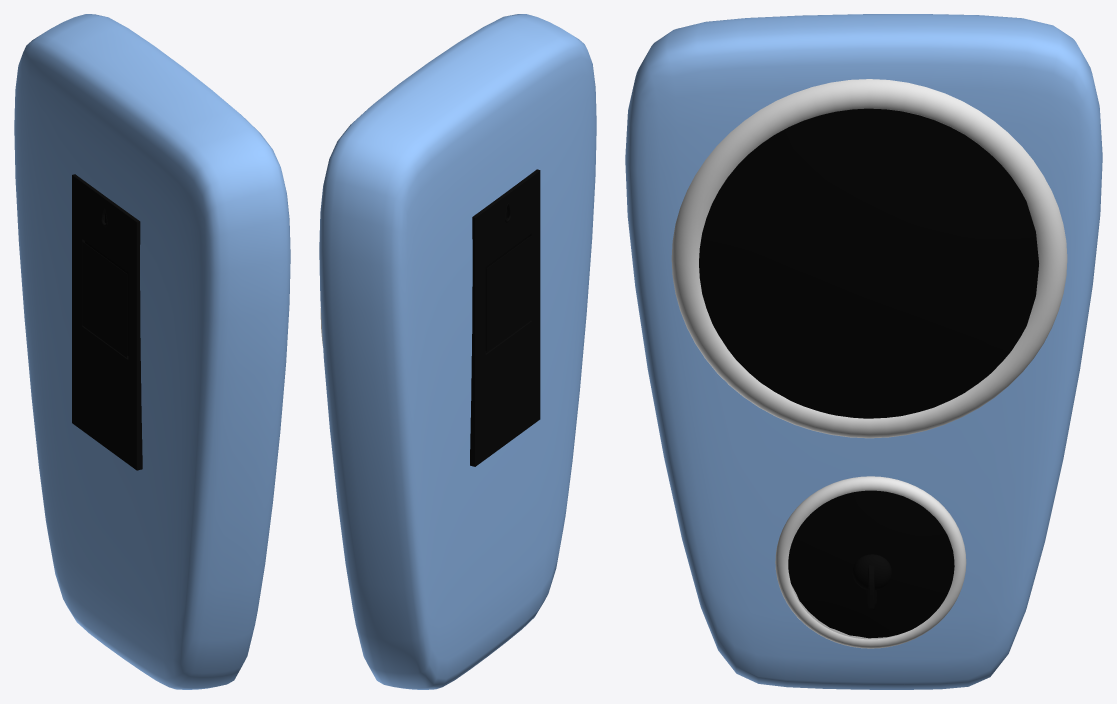
Rendered from wall_clock.glb.
The picture shows the model from 3 angles, left to right: view 1: azimuth 30°, elevation 25°; view 2: azimuth 150°, elevation 25°; view 3: azimuth 270°, elevation 25°; orthographic projection. The views are drawn at different scales.
Parts seen in each view (by area): view 1: Clock Body_16, Back_13, Battery case lid_12; view 2: Clock Body_16, Back_13, Battery case lid_12; view 3: Clock Body_16, Front Glass Clock_15, Clock Frame_1, Front Glass Timer_17, Timer Frame_7, Center Timer_9.
Part boxes in pixels (x1,y1,x2,y2): Clock Body_16: (14,14,290,689); Back_13: (72,174,142,470); Battery case lid_12: (82,241,127,357); Clock Body_16: (319,14,596,689); Back_13: (470,169,540,466); Battery case lid_12: (486,236,531,352); Clock Body_16: (625,14,1102,689); Front Glass Clock_15: (699,108,1038,418); Clock Frame_1: (671,79,1067,438); Front Glass Timer_17: (788,490,954,638); Timer Frame_7: (775,476,966,648); Center Timer_9: (852,554,891,590).
Size of the model in its own units: 0.1057 by 0.4942 by 0.3243.
Materials: 9 (2 with a texture image).
